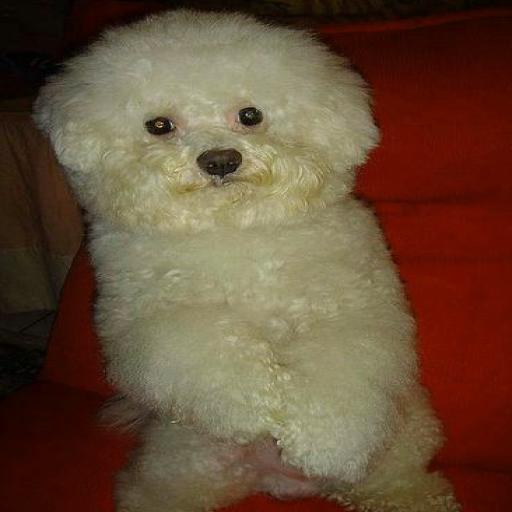dog_face: (51, 18, 366, 230)
